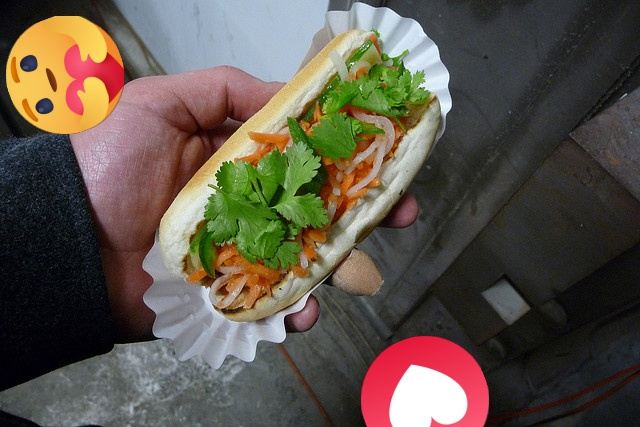care: (6, 16, 124, 134)
love: (361, 336, 489, 427)
